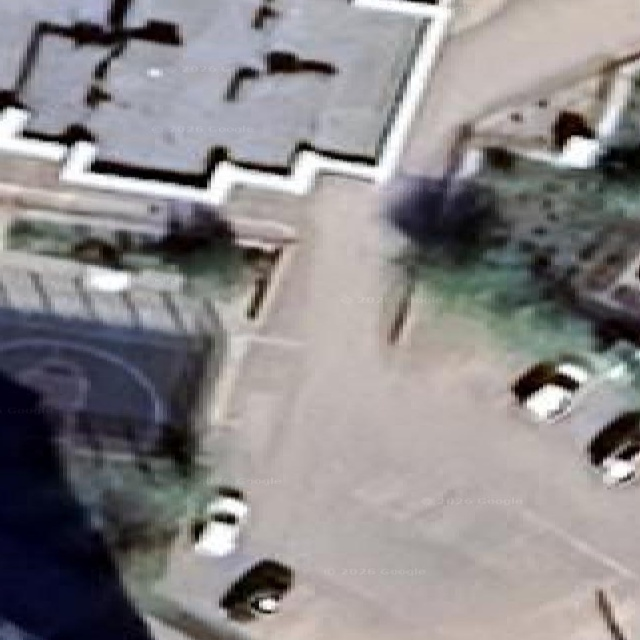car: (512, 358, 590, 421), (220, 560, 292, 621), (192, 487, 248, 556)
